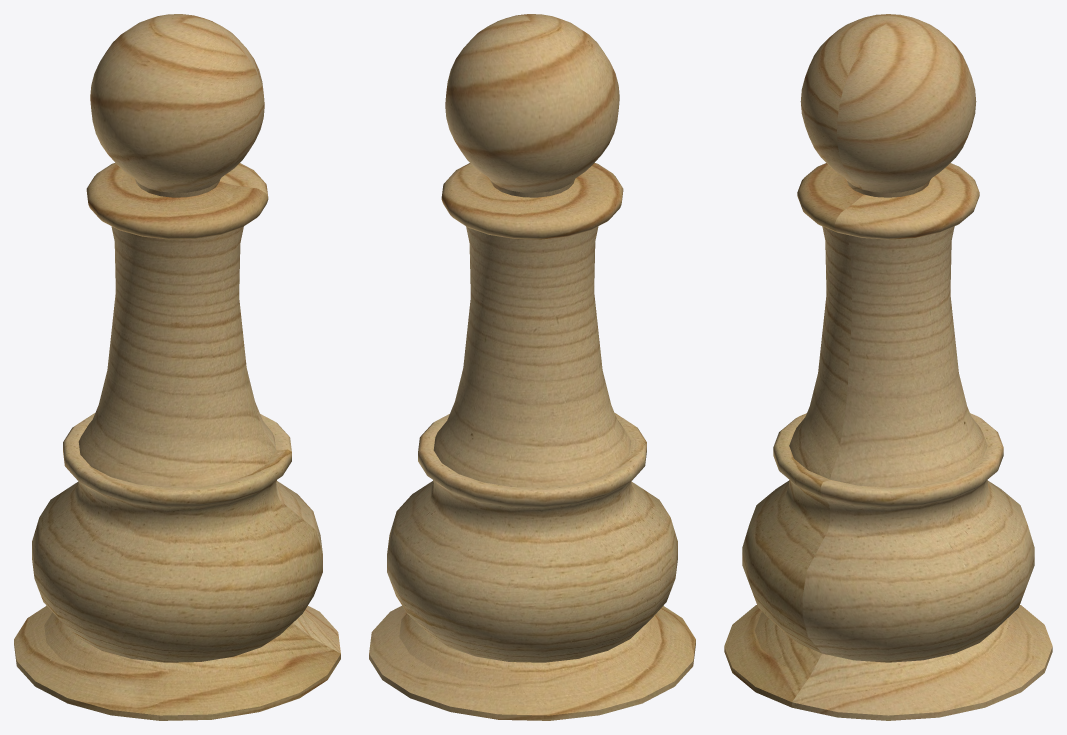
File: White_Pawn.dae
3 renders of one model, left to right at view 1: azimuth 30°, elevation 25°; view 2: azimuth 150°, elevation 25°; view 3: azimuth 270°, elevation 25°, orthographic.
Visible parts, largest first — view 1: Pawn; view 2: Pawn; view 3: Pawn.
Boxes of the visible parts, x1,y1,x2,y2 form: Pawn: (14, 14, 340, 720); Pawn: (369, 14, 695, 720); Pawn: (724, 14, 1052, 720).
Size of the model in its own units: 1.25 by 2.65 by 1.25.
1 material, 1 textured.
